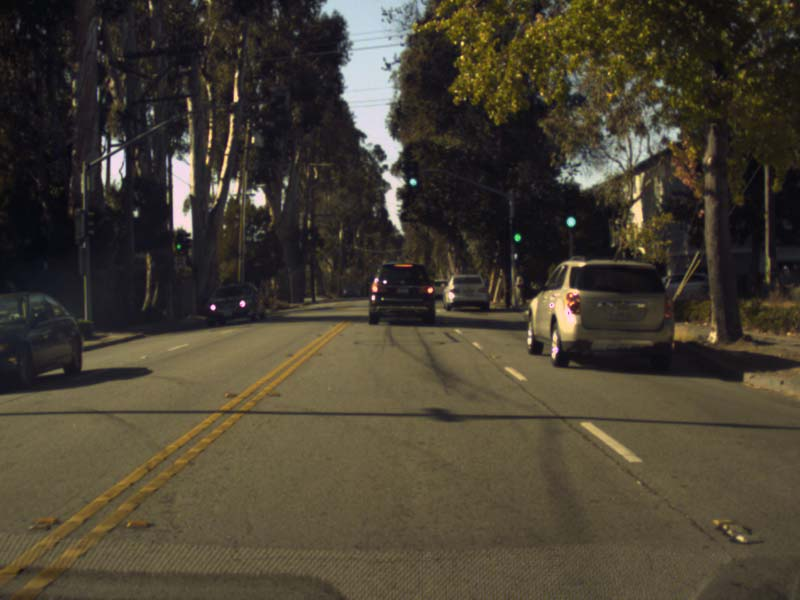Green: (564, 193, 576, 229), (407, 162, 418, 187), (511, 217, 521, 243), (175, 233, 182, 249)
